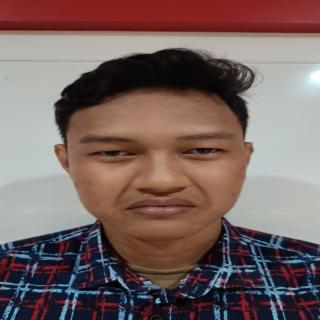Sedih: (57, 86, 256, 249)
